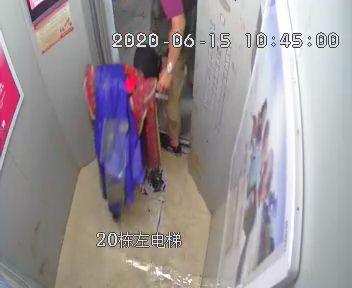Electric-bicycle: (81, 51, 164, 220)
